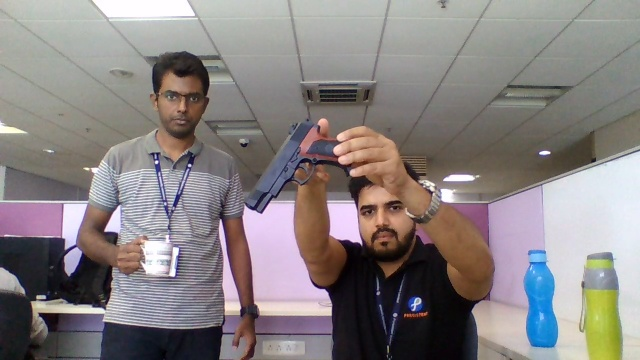gun: (244, 121, 313, 214)
